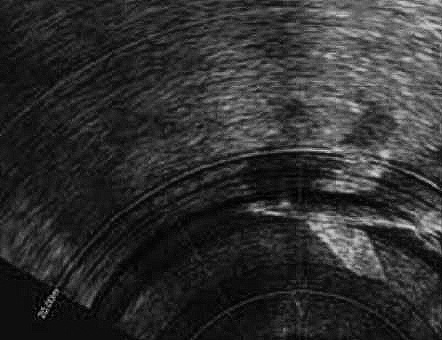plane: (244, 111, 442, 282)
